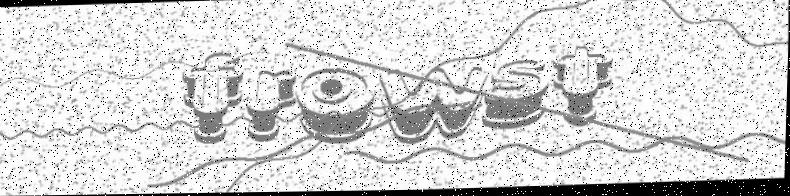f: (179, 48, 246, 145)
o: (296, 60, 376, 146)
r: (244, 67, 299, 144)
s: (481, 56, 548, 132)
t: (547, 43, 616, 130)
w: (372, 65, 491, 146)
